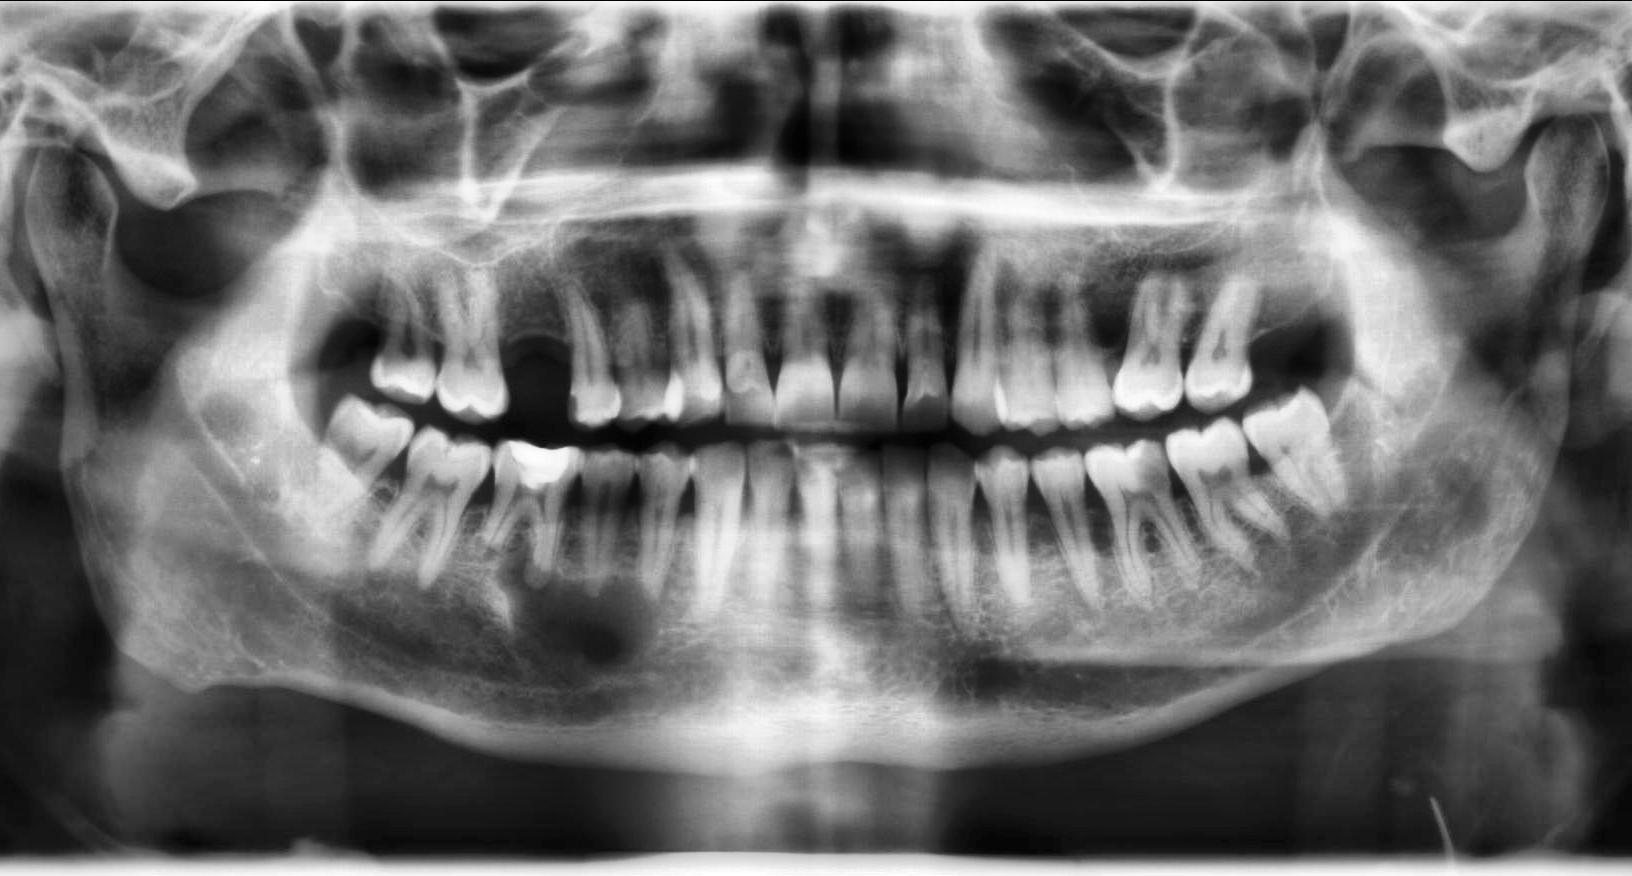keratokist: (490, 530, 663, 694)
